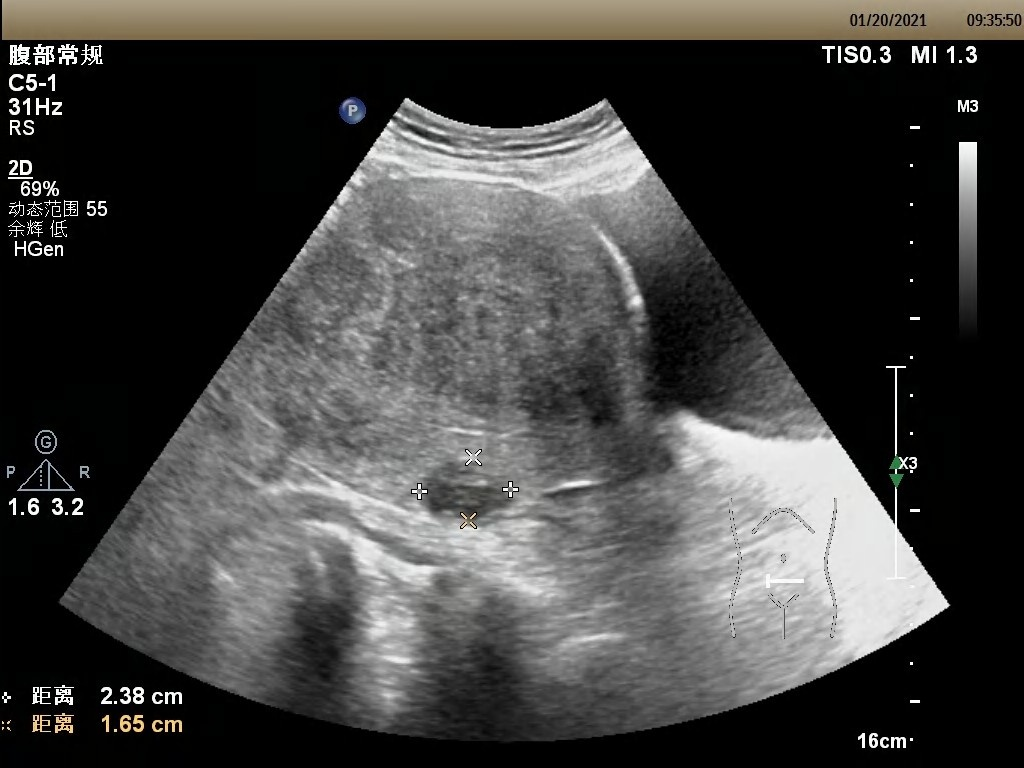肌瘤: (420, 458, 514, 522)
